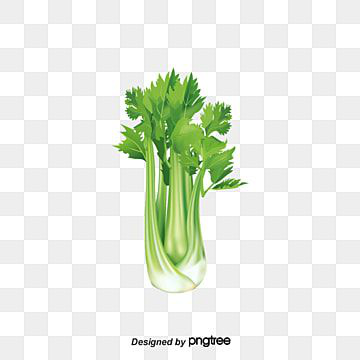Seledri: (100, 65, 256, 299)
